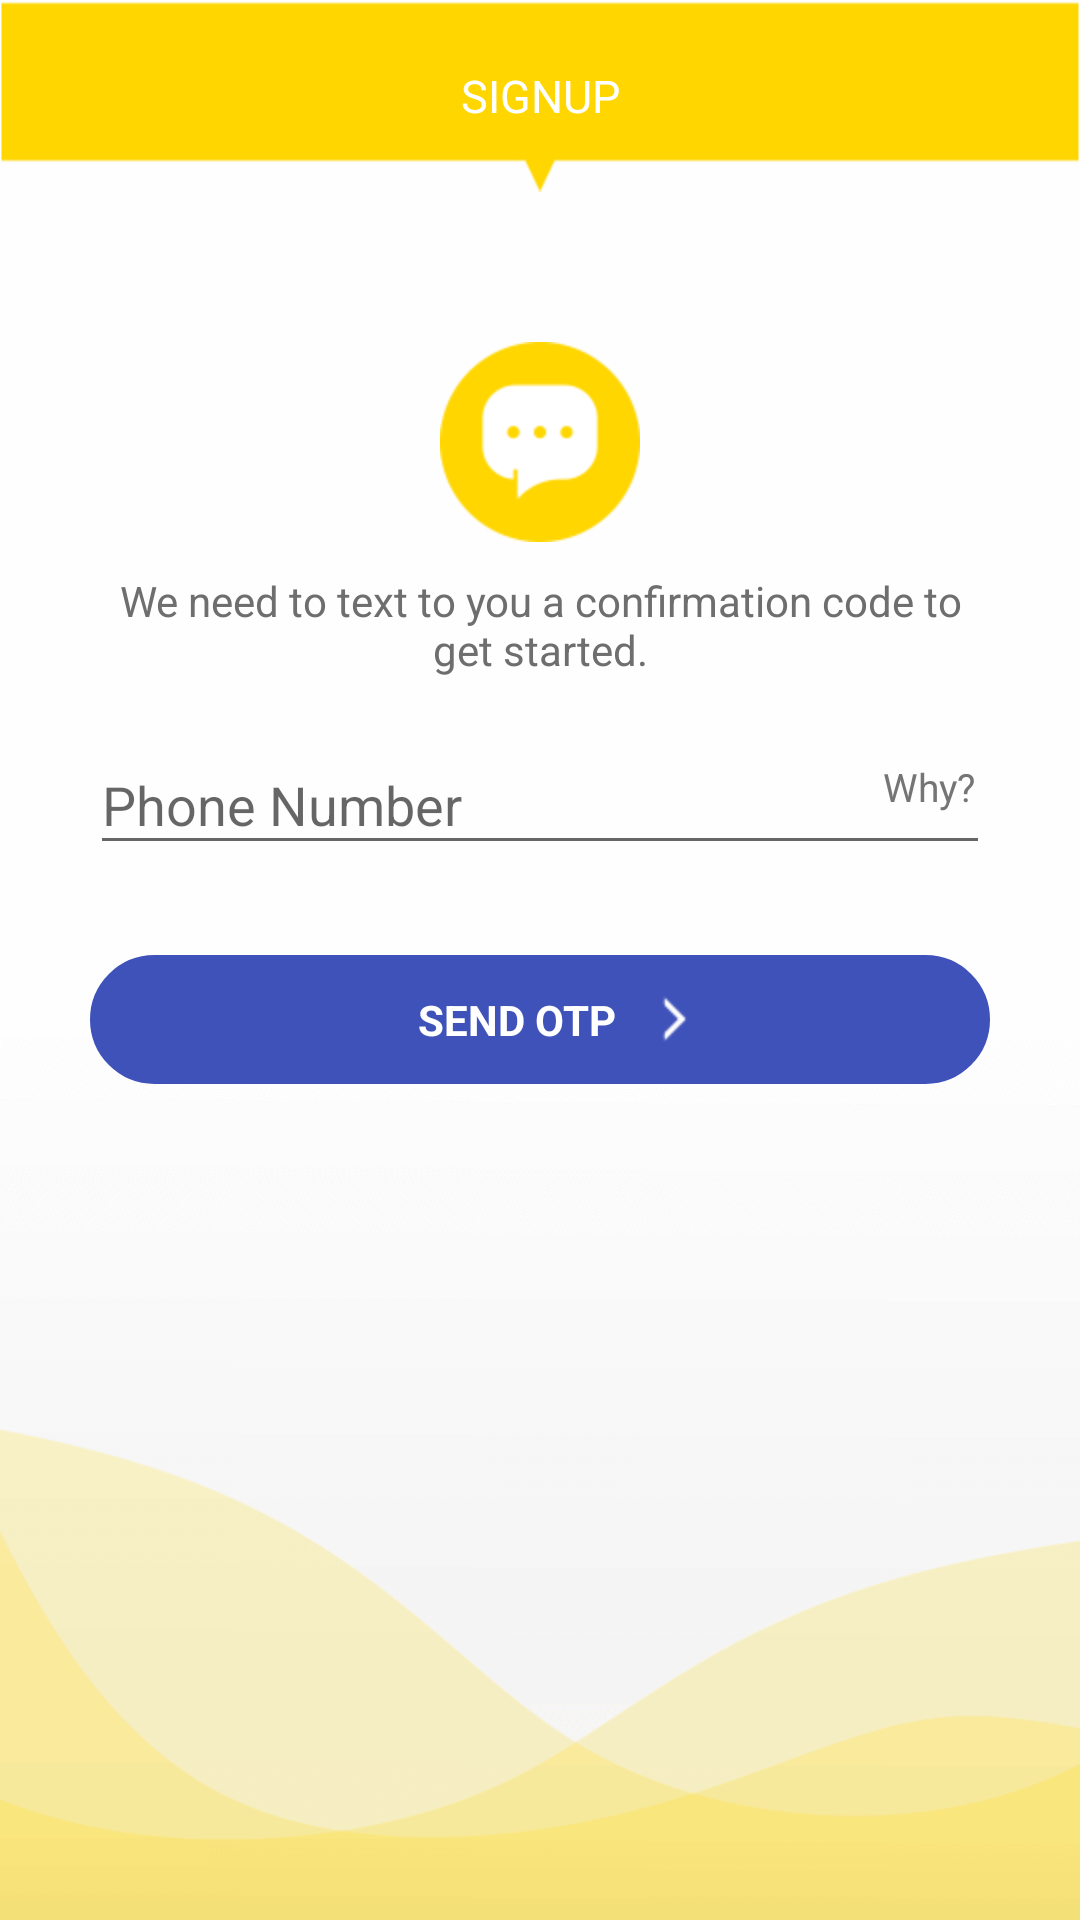

Icon bounding boxes for this 1080*1920 phone screenshot, format (x1,y1,x2,y2):
otp: (440,342,640,542)
right arrow: (663,998,686,1040)
